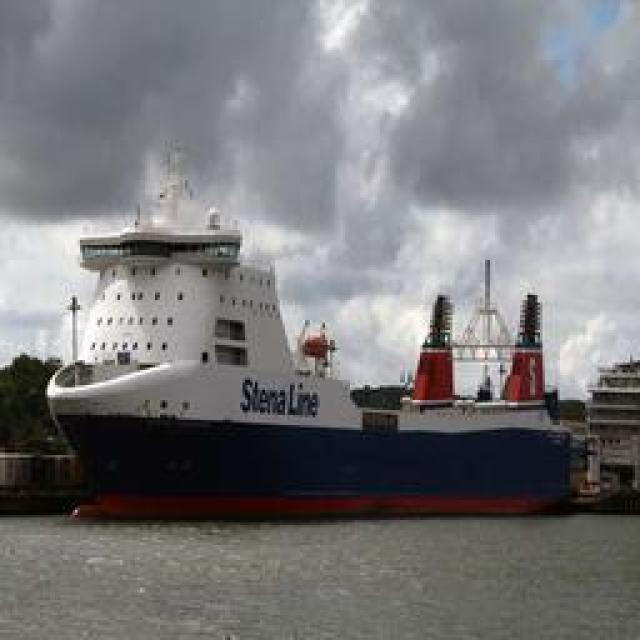ship2: (46, 153, 574, 524)
